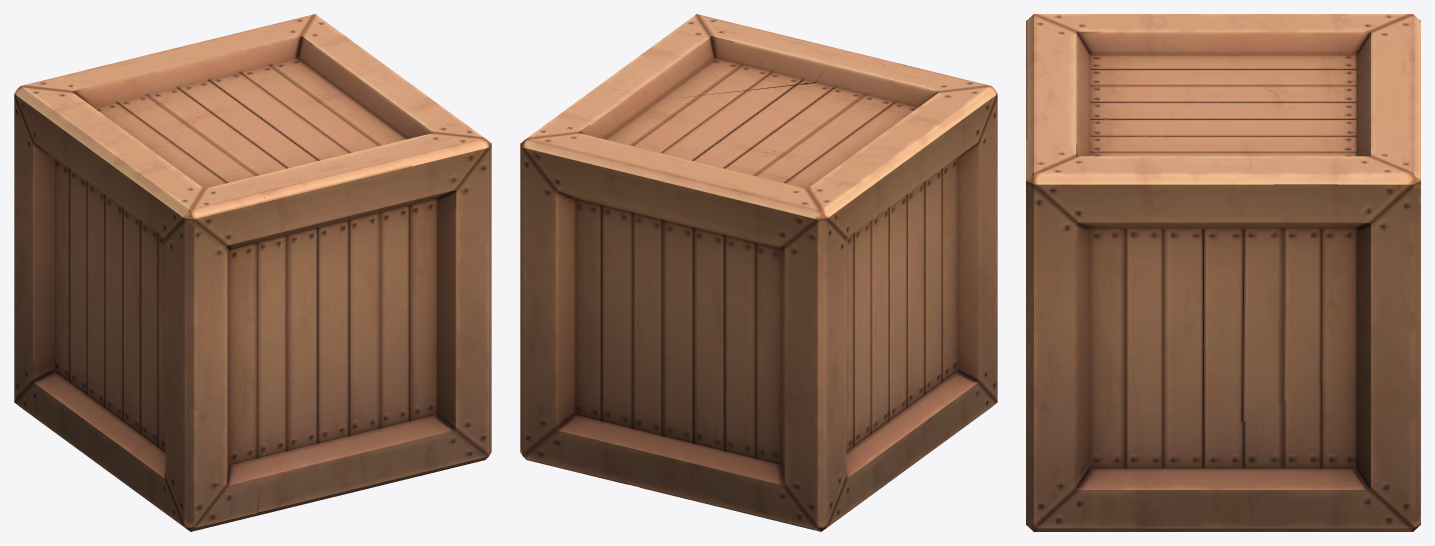
The model's file is wooden_crate_2.fbx.
3 views of the same model, side by side, from view 1: azimuth 30°, elevation 25°; view 2: azimuth 150°, elevation 25°; view 3: azimuth 270°, elevation 25° (orthographic). The views are drawn at different scales.
Visible parts, largest first — view 1: Cube_015_cell.020, Cube_015_cell.021, Cube_015_cell.019, Cube_015_cell.018, Cube_015_cell.017, Cube_015_cell.013, Cube_015_cell.015, Cube_015_cell.014; view 2: Cube_015_cell.021, Cube_015_cell.019, Cube_015_cell.012, Cube_015_cell.016, Cube_015_cell.017, Cube_015_cell.013, Cube_015_cell.018, Cube_015_cell.005, Cube_015_cell.022, Cube_015_cell.020, Cube_015_cell.014; view 3: Cube_015_cell.020, Cube_015_cell.012, Cube_015_cell.005, Cube_015_cell.014, Cube_015_cell.021, Cube_015_cell.017, Cube_015_cell.013, Cube_015_cell.022.
Boxes of the visible parts, left/top/right/bottom form: Cube_015_cell.020: left=170, top=114, right=491, bottom=466; Cube_015_cell.021: left=105, top=78, right=378, bottom=383; Cube_015_cell.019: left=14, top=163, right=123, bottom=445; Cube_015_cell.018: left=74, top=338, right=261, bottom=531; Cube_015_cell.017: left=56, top=14, right=394, bottom=115; Cube_015_cell.013: left=14, top=77, right=200, bottom=205; Cube_015_cell.015: left=250, top=405, right=458, bottom=516; Cube_015_cell.014: left=322, top=72, right=452, bottom=159; Cube_015_cell.021: left=626, top=64, right=997, bottom=368; Cube_015_cell.019: left=767, top=218, right=907, bottom=531; Cube_015_cell.012: left=520, top=170, right=718, bottom=487; Cube_015_cell.016: left=552, top=198, right=798, bottom=442; Cube_015_cell.017: left=520, top=80, right=785, bottom=244; Cube_015_cell.013: left=760, top=123, right=944, bottom=289; Cube_015_cell.018: left=885, top=219, right=997, bottom=484; Cube_015_cell.005: left=520, top=261, right=627, bottom=484; Cube_015_cell.022: left=640, top=406, right=886, bottom=530; Cube_015_cell.020: left=664, top=14, right=997, bottom=234; Cube_015_cell.014: left=606, top=38, right=815, bottom=100; Cube_015_cell.020: left=1026, top=56, right=1141, bottom=531; Cube_015_cell.012: left=1180, top=177, right=1420, bottom=434; Cube_015_cell.005: left=1177, top=314, right=1420, bottom=531; Cube_015_cell.014: left=1090, top=112, right=1238, bottom=435; Cube_015_cell.021: left=1026, top=14, right=1279, bottom=163; Cube_015_cell.017: left=1231, top=33, right=1420, bottom=215; Cube_015_cell.013: left=1149, top=14, right=1420, bottom=96; Cube_015_cell.022: left=1099, top=391, right=1217, bottom=531.
Bounding box in the file's own units: 200 × 200 × 200.
